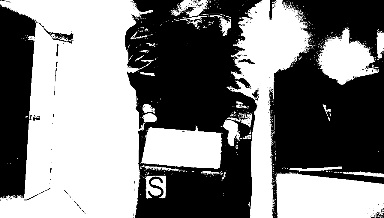S: (145, 176, 166, 197)
